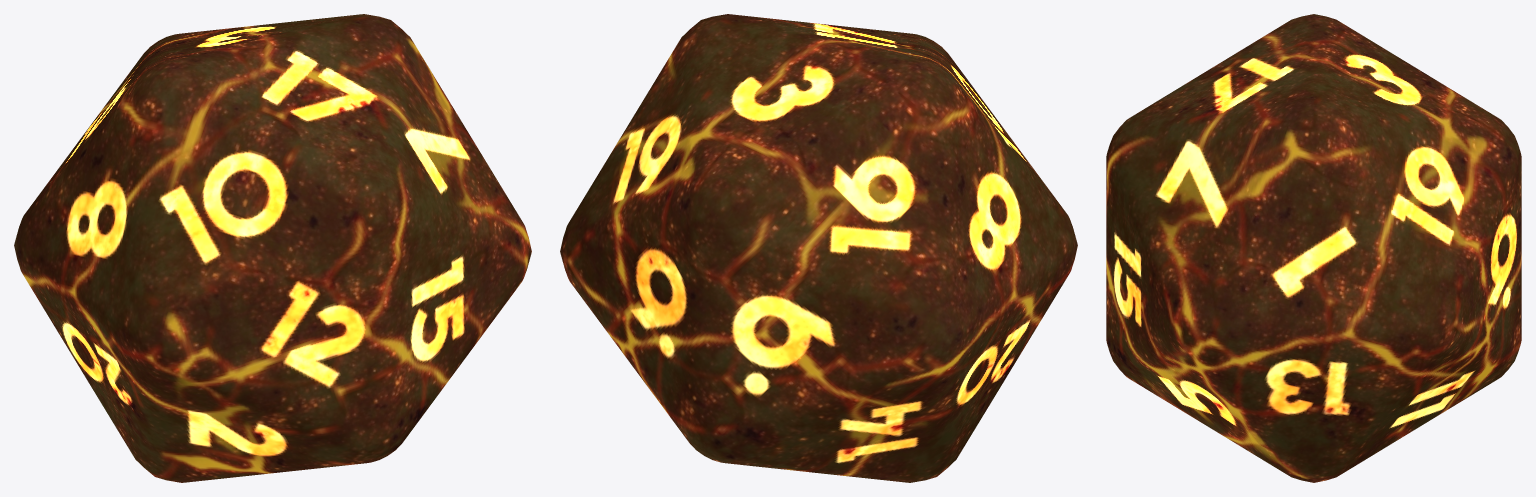
Rendered from magma20_d20.gltf.
The picture shows the model from 3 angles, left to right: view 1: azimuth 30°, elevation 25°; view 2: azimuth 150°, elevation 25°; view 3: azimuth 270°, elevation 25°; orthographic projection. The views are drawn at different scales.
Parts seen in each view (by area): view 1: dice_20; view 2: dice_20; view 3: dice_20.
Boxes of the visible parts, x1,y1,x2,y2 form: dice_20: (14,14,531,482); dice_20: (560,14,1077,482); dice_20: (1106,14,1521,482).
Size of the model in its own units: 167 by 167 by 167.
Materials: 1 (1 with a texture image).
